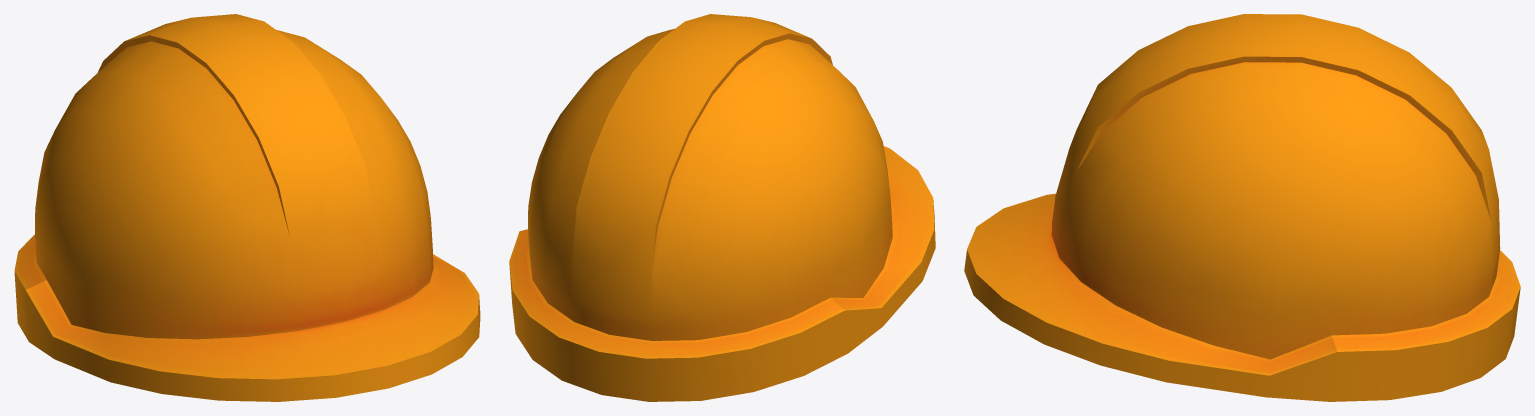
Rendered from EngineerHelmet.fbx.
3 views of the same model, side by side, from view 1: azimuth 30°, elevation 25°; view 2: azimuth 150°, elevation 25°; view 3: azimuth 270°, elevation 25° (orthographic). The views are drawn at different scales.
Visible parts, largest first — view 1: EngineerHelmet; view 2: EngineerHelmet; view 3: EngineerHelmet.
Boxes of the visible parts, left/top/right/bottom form: EngineerHelmet: left=14, top=14, right=480, bottom=401; EngineerHelmet: left=509, top=14, right=935, bottom=401; EngineerHelmet: left=964, top=14, right=1520, bottom=401.
Size of the model in its own units: 35.4 by 28.09 by 46.04.
Materials: 1 (1 with a texture image).
